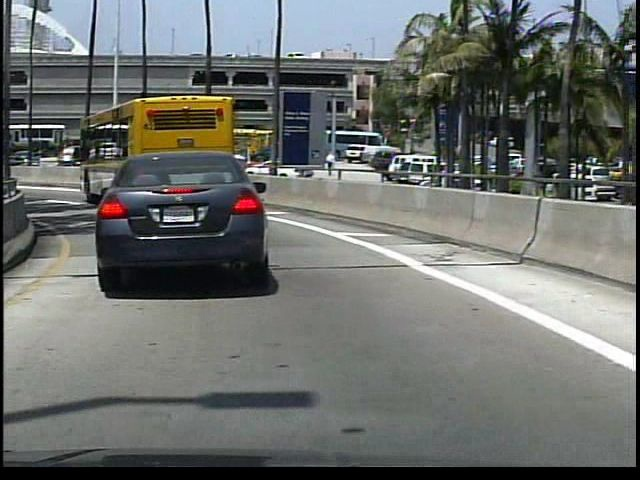person: (321, 149, 336, 180)
